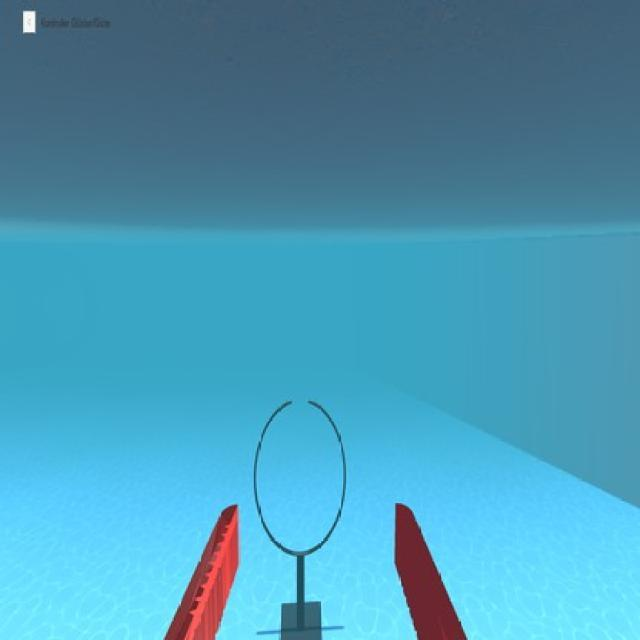Circle: (249, 393, 350, 557)
